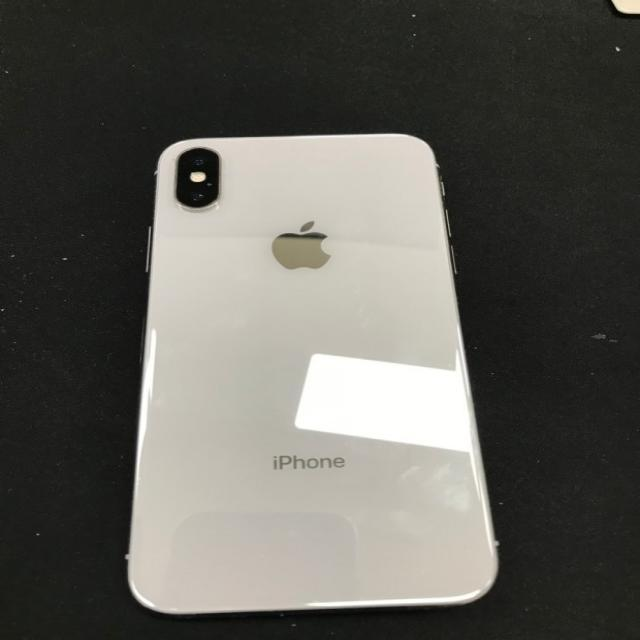phone: (121, 130, 504, 622)
